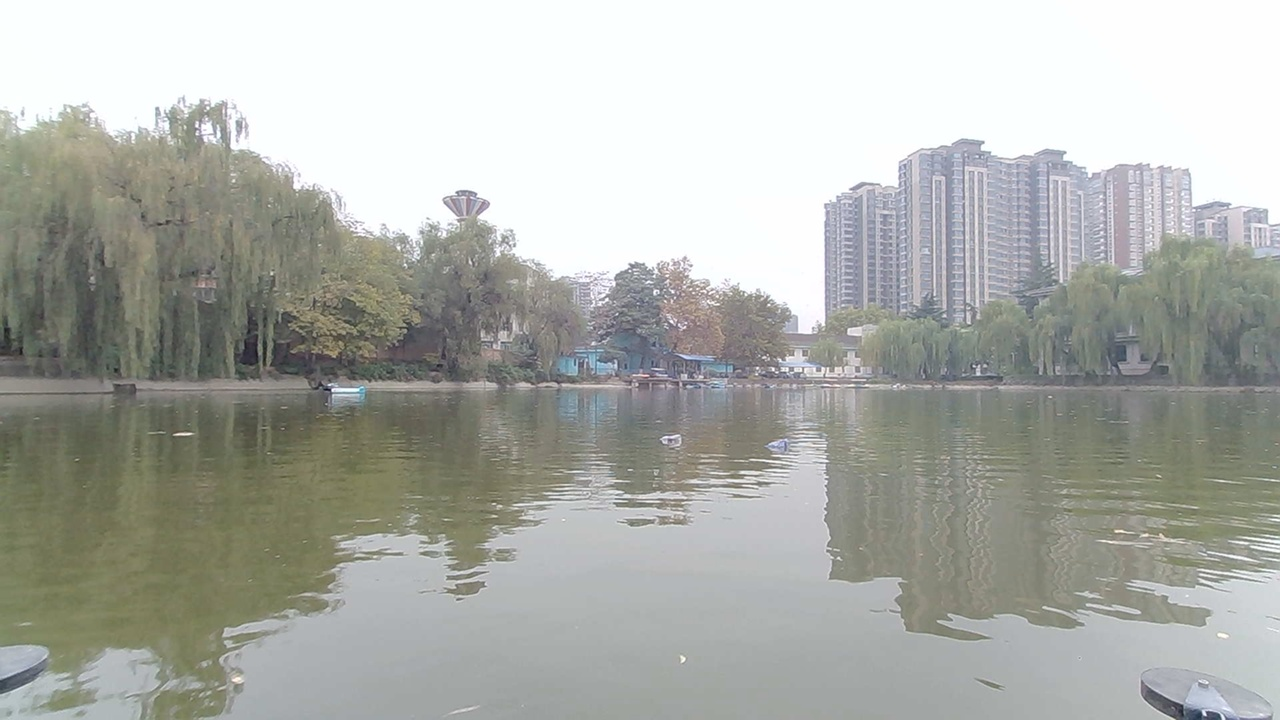bottle: (652, 420, 691, 446), (768, 438, 801, 455)
